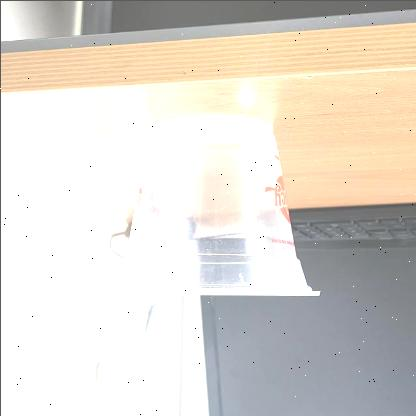Others: (106, 112, 322, 300)
